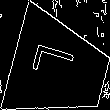L_E: (33, 47, 86, 90)
